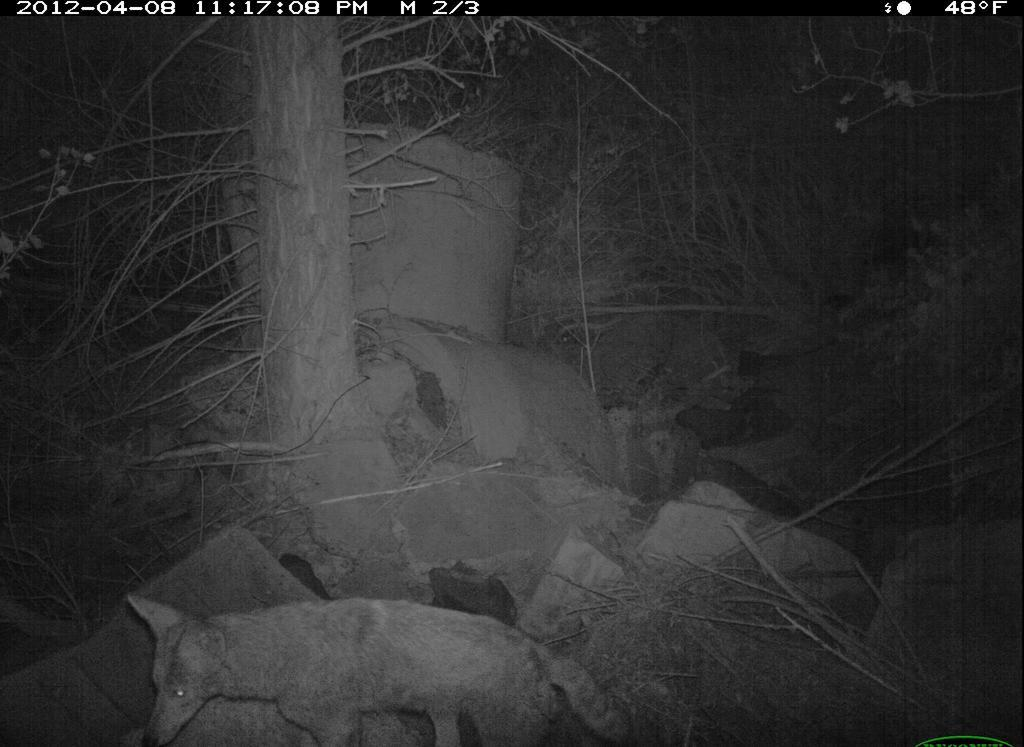coyote: (109, 555, 657, 747)
